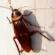cockroach: (11, 8, 32, 52)
